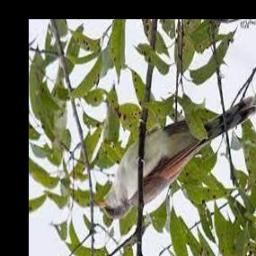Cuckoo: (90, 96, 256, 220)
